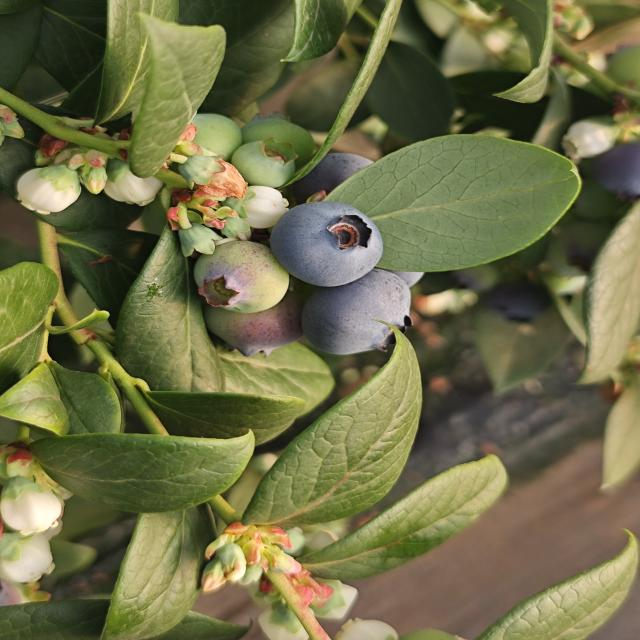ripe: (266, 202, 395, 291), (287, 143, 399, 212), (304, 282, 416, 350), (480, 261, 559, 325), (580, 123, 640, 207)
